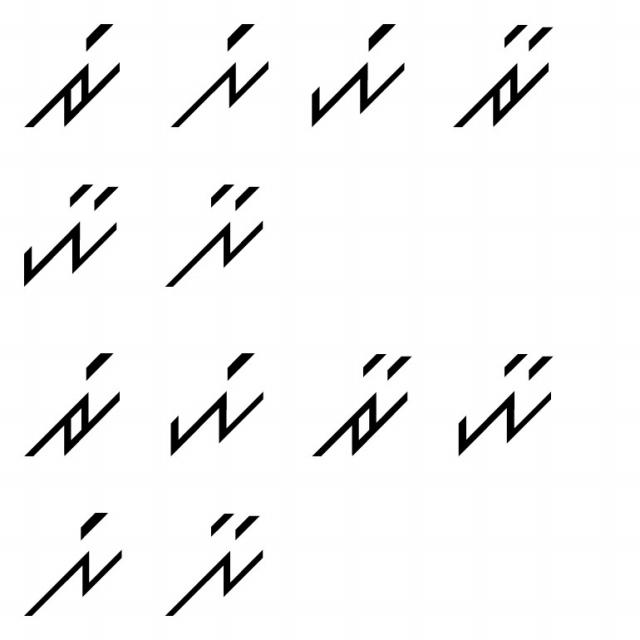lan: (156, 175, 274, 295), (162, 509, 270, 624)
lang: (162, 16, 272, 139), (14, 504, 126, 620)
ran: (448, 16, 567, 138), (304, 346, 420, 470)
rang: (17, 12, 128, 136), (18, 348, 129, 470)
yan: (450, 334, 564, 465), (14, 174, 126, 291)
yang: (298, 17, 412, 128), (160, 348, 272, 459)
